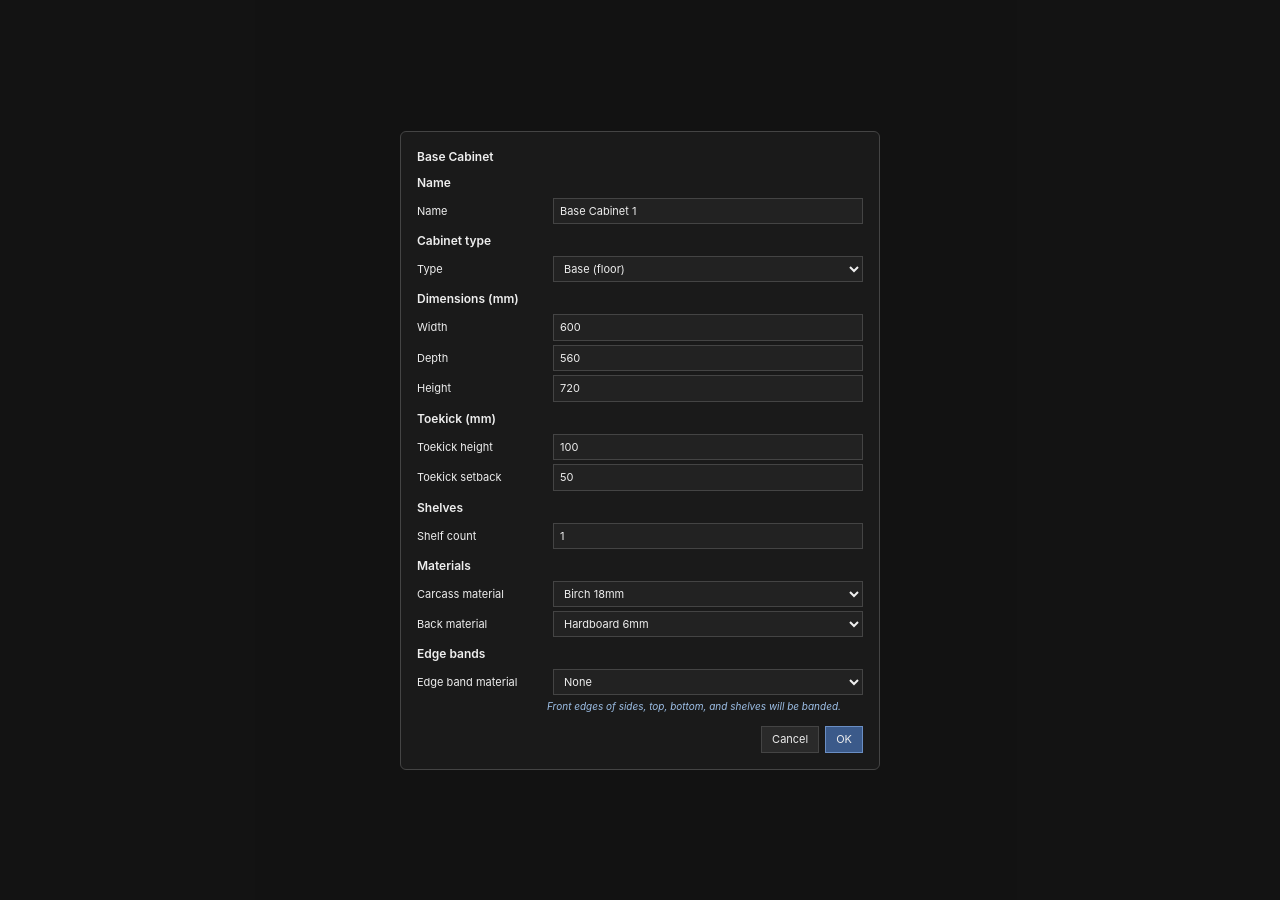
Test: CabinetDialog — validation › disables OK when carcass material is unset
The width and height of the screenshot is (1280, 900).
Select "— pick —" in the dropdown labelled "Carcass material" at (708, 594), box [553,581,863,607]
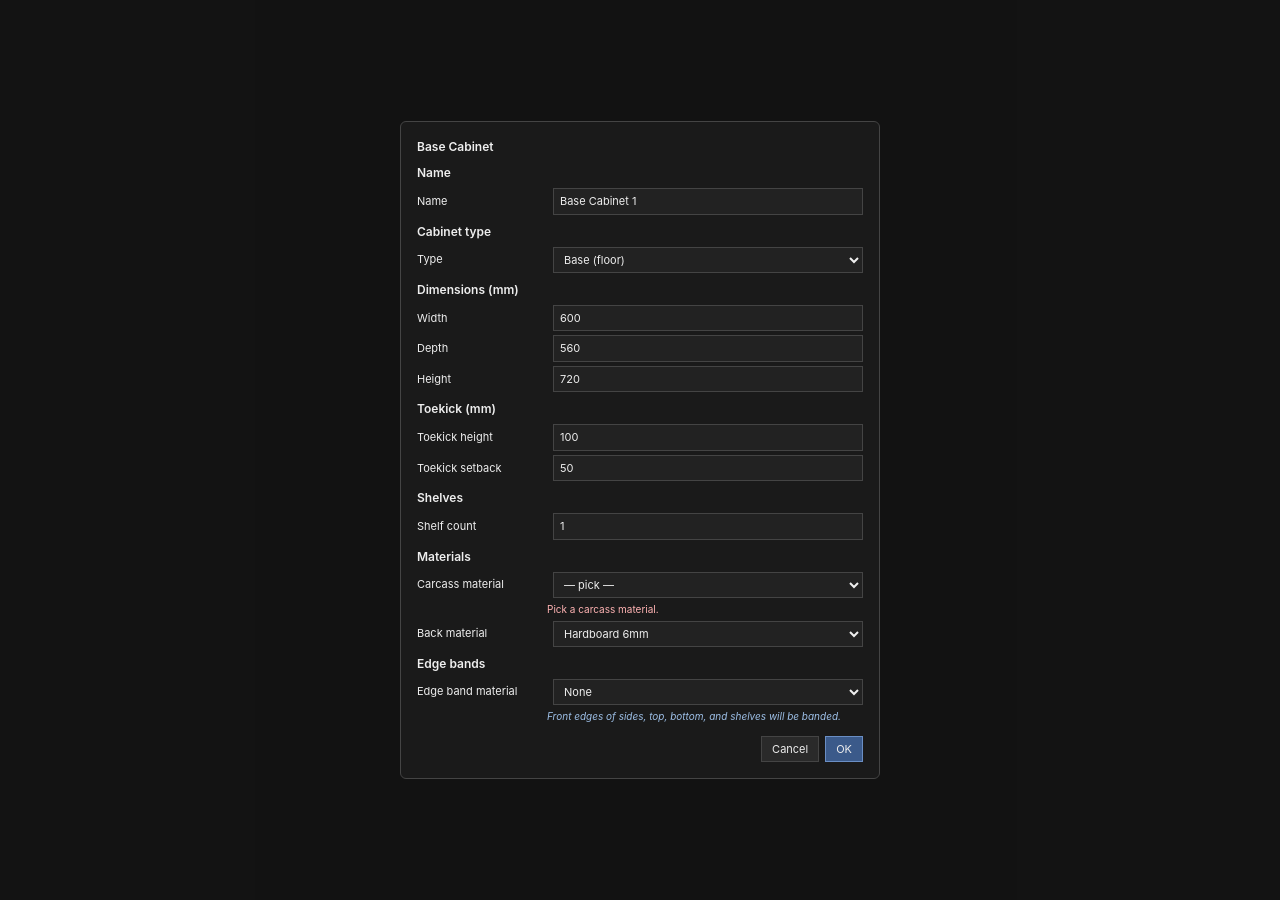
Check: the text "Pick a carcass material." is shown, box [547,602,659,614]
